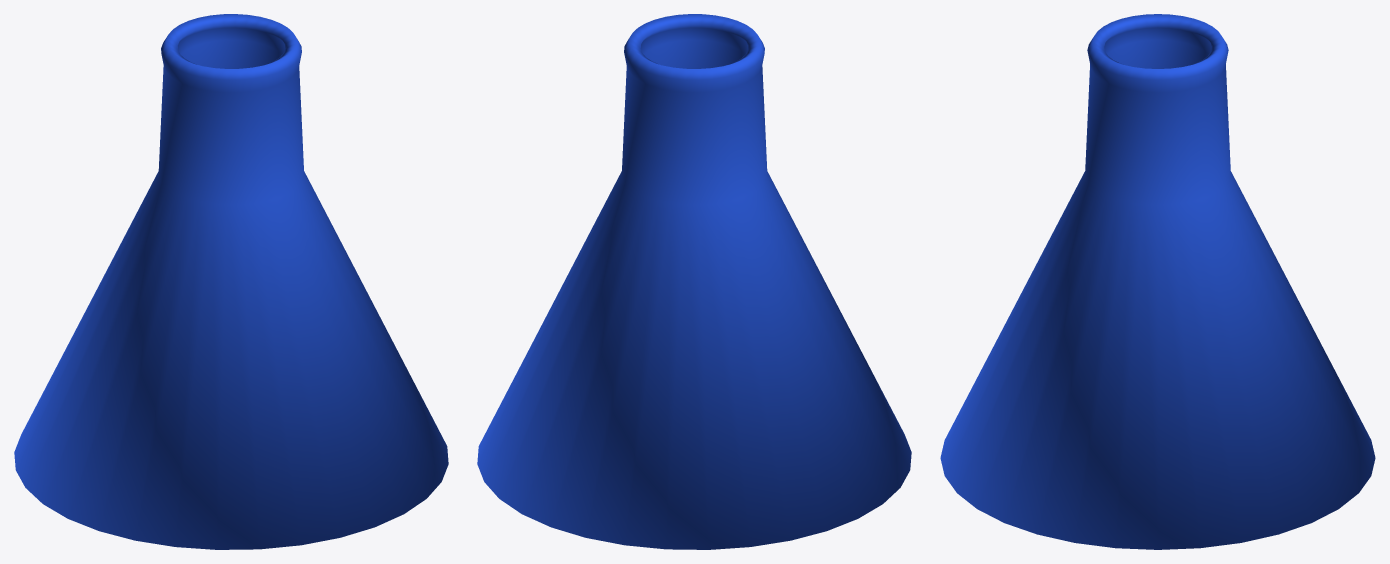
The model's file is flask.fbx.
3 renders of one model, left to right at view 1: azimuth 30°, elevation 25°; view 2: azimuth 150°, elevation 25°; view 3: azimuth 270°, elevation 25°, orthographic.
Visible parts, largest first — view 1: flask; view 2: flask; view 3: flask.
Part boxes in pixels (box(x1,y1,x2,y2)): flask: box(14, 14, 448, 549); flask: box(477, 14, 911, 549); flask: box(940, 14, 1375, 549).
Bounding box in the file's own units: 27.79 × 29.36 × 27.79.
